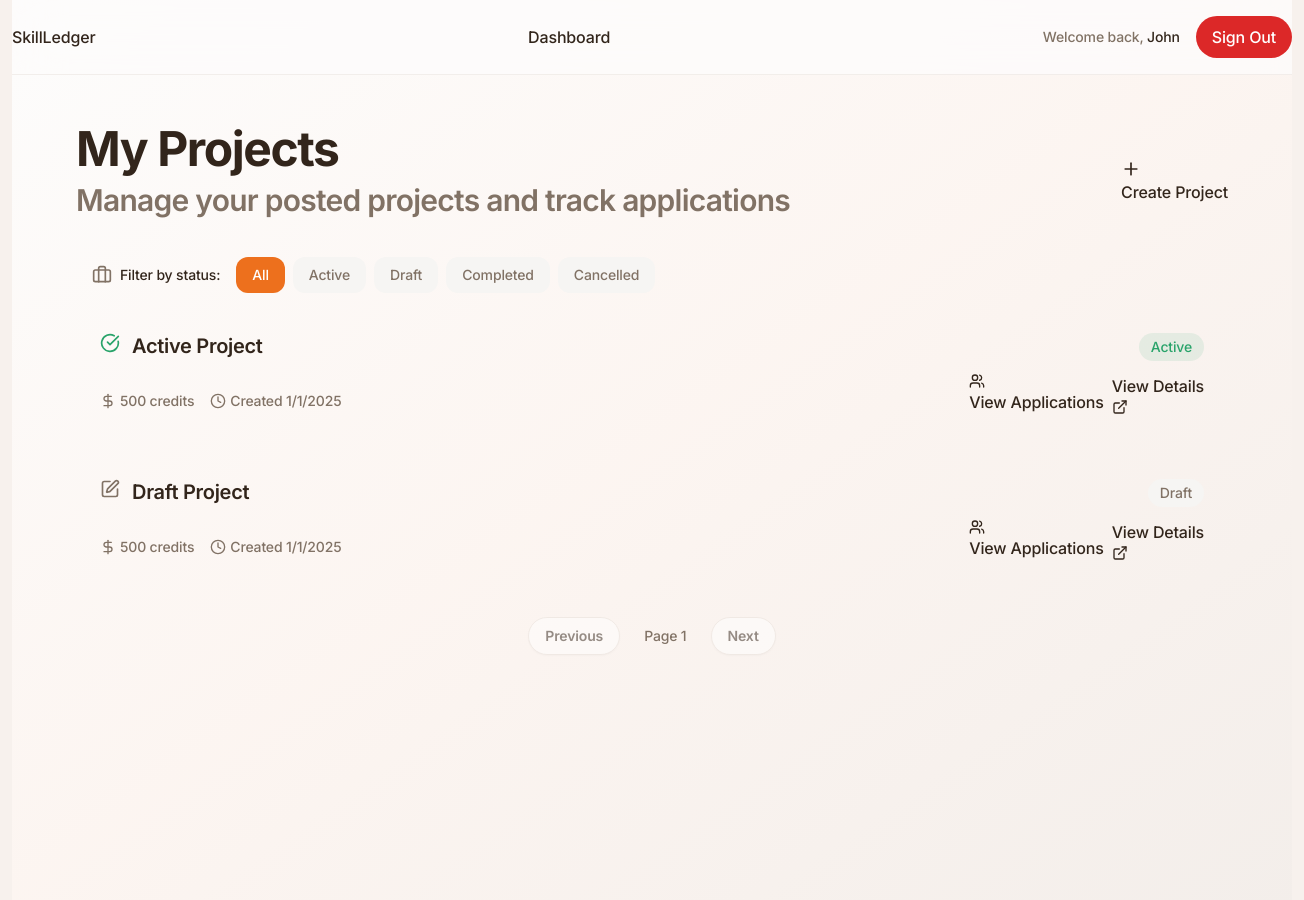
Test: MyProjectsPage - Status Filtering › should show all projects when "All" filter selected
The width and height of the screenshot is (1304, 900).
Check: the heading "Active Project" is shown, box [132,332,263,358]
Note: First filter to Active
Click the button "Active". click: (329, 274)
box: [293,256,366,292]
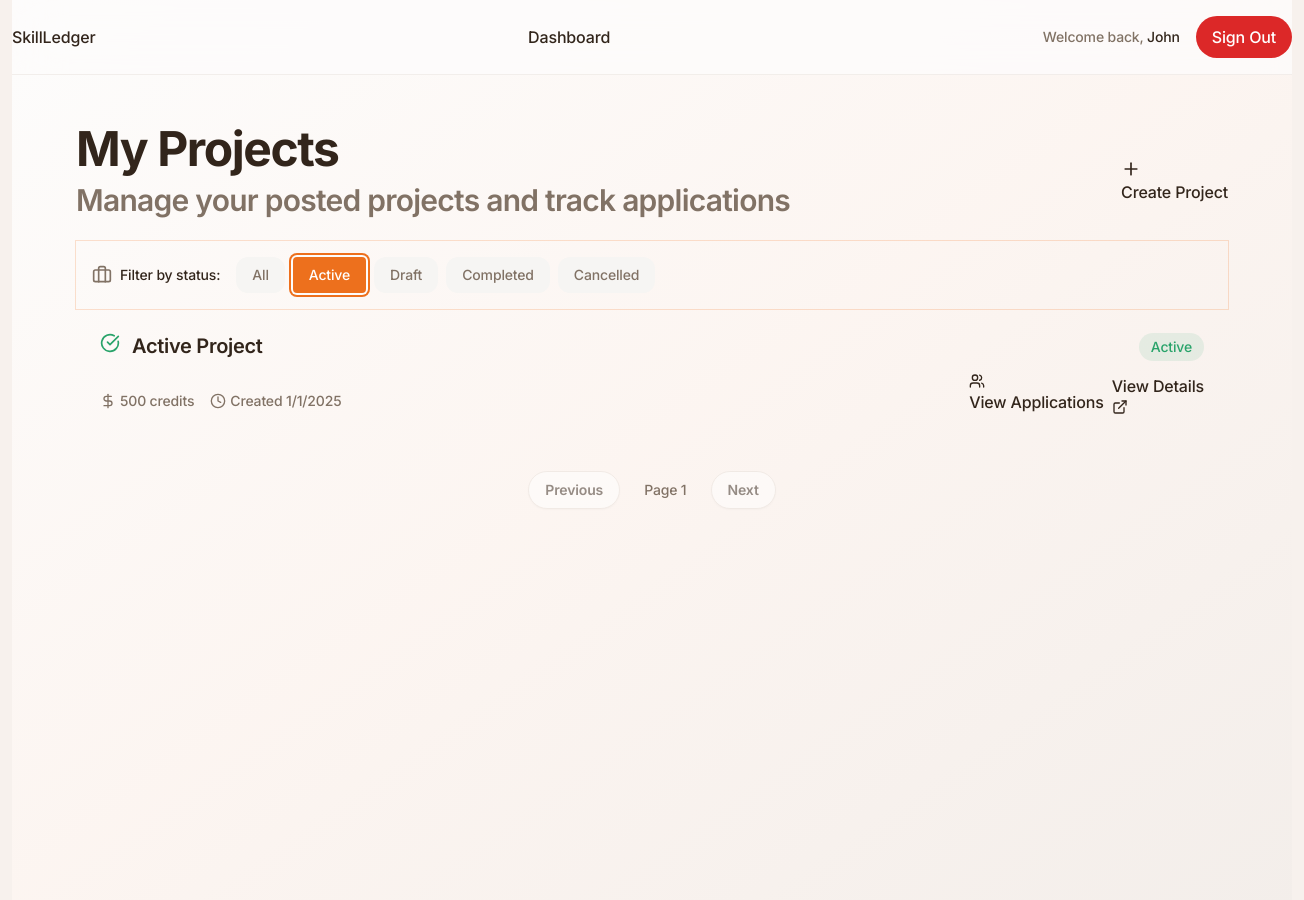
Check: the heading "Draft Project" is gone
Note: Then switch back to All
Click the button "All". click: (261, 274)
box: [236,256,285,292]
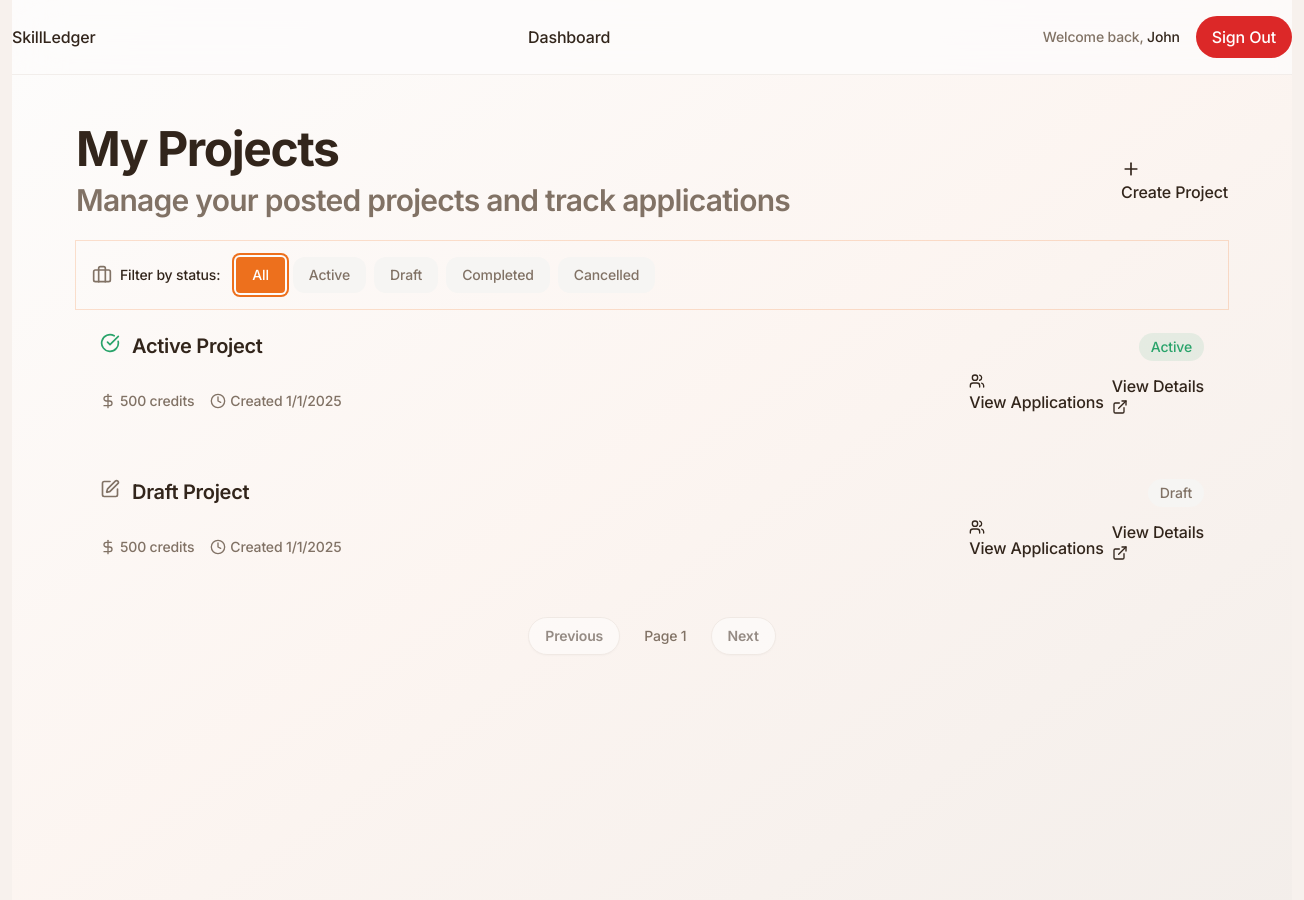
Check: the heading "Active Project" is shown, box [132,332,263,358]
Check: the heading "Draft Project" is shown, box [132,478,249,504]
